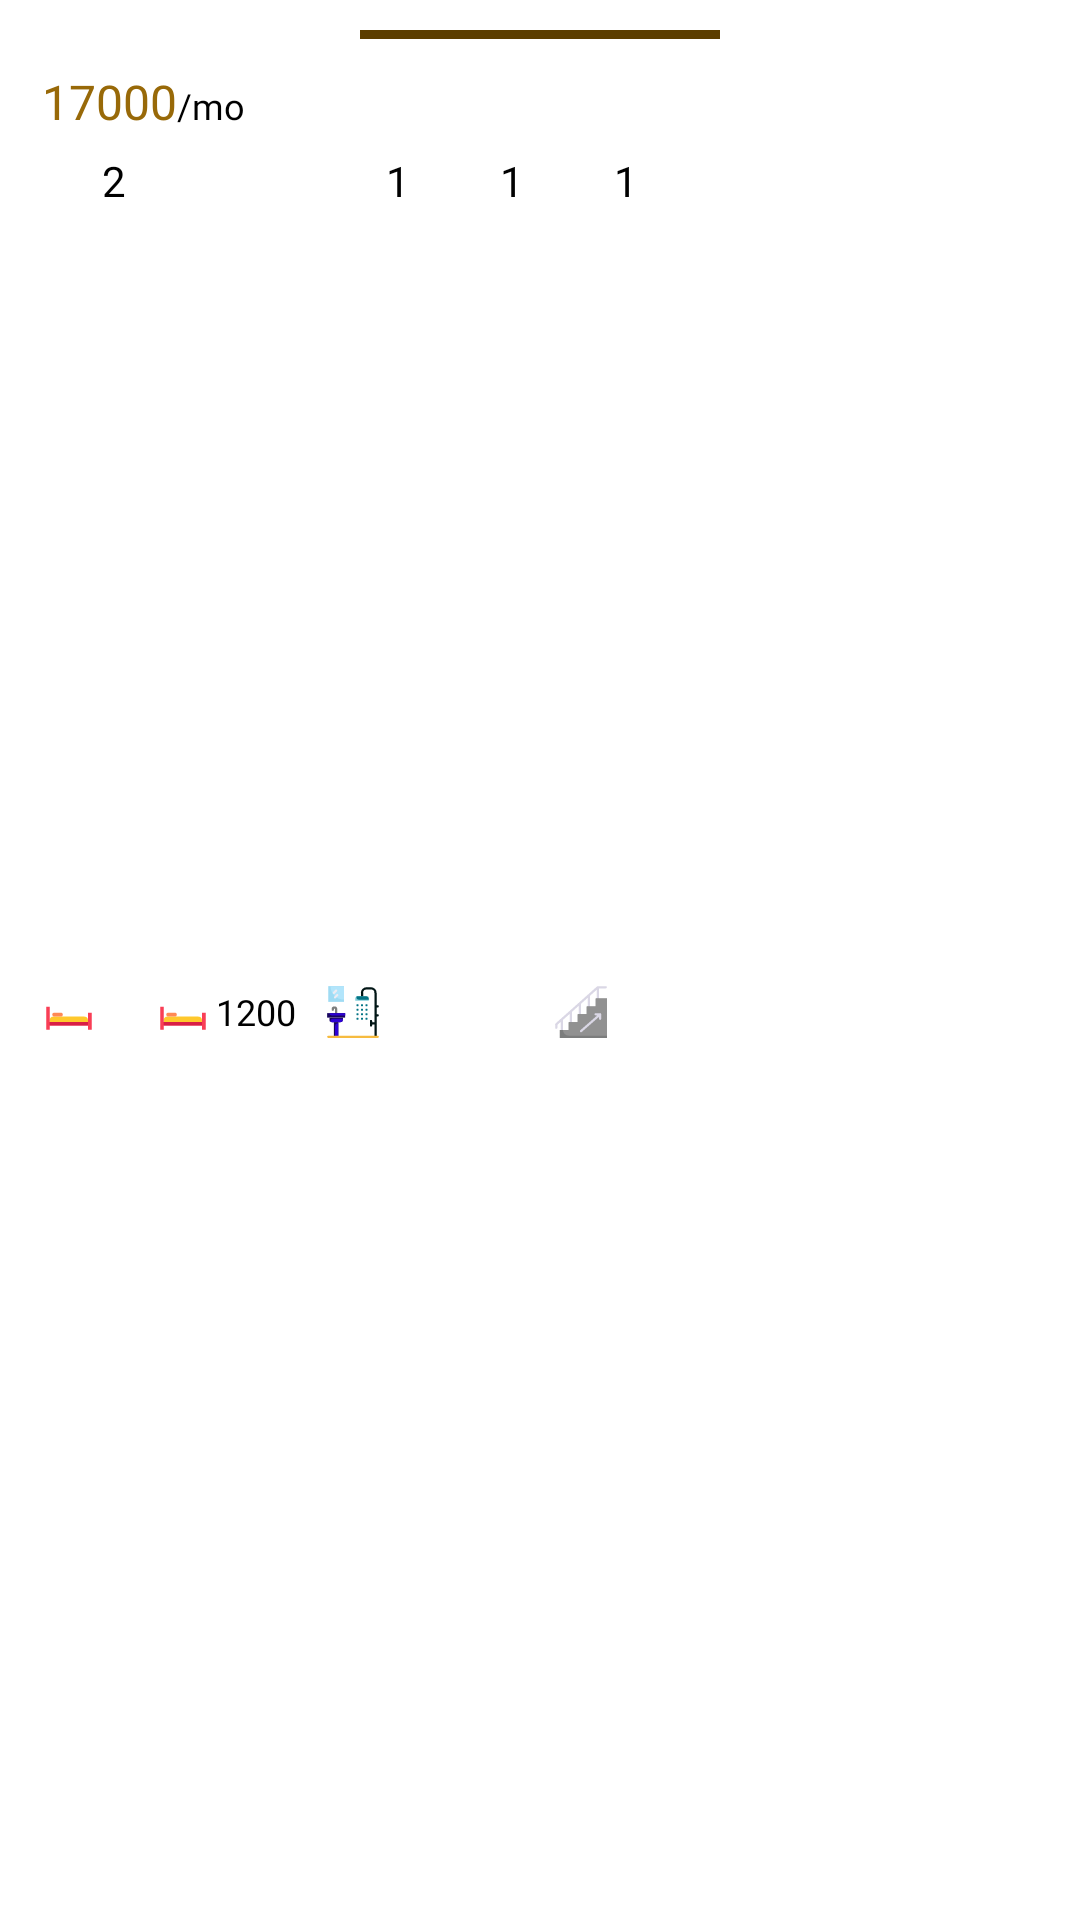

Point at icon controls on the screen. Image size 1080*1920, points as point (x, y).
bathroom: point (353, 1012)
bed: point (69, 1018), point (183, 1018)
stairs: point (581, 1012)
